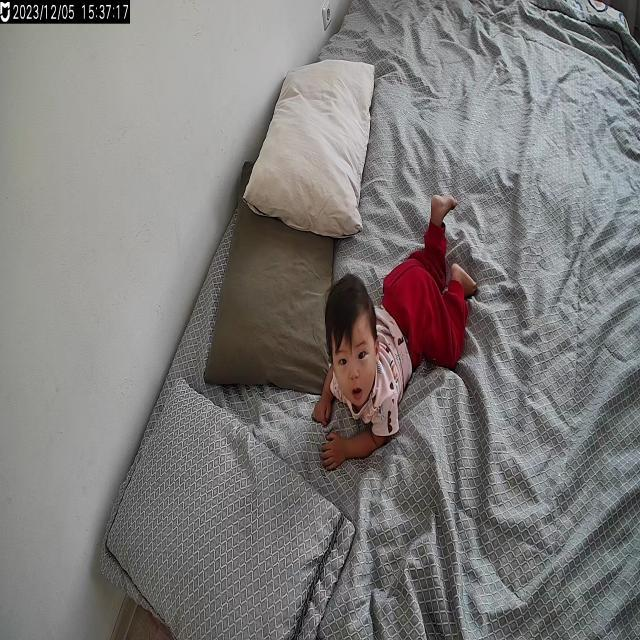baby: (312, 186, 476, 464)
